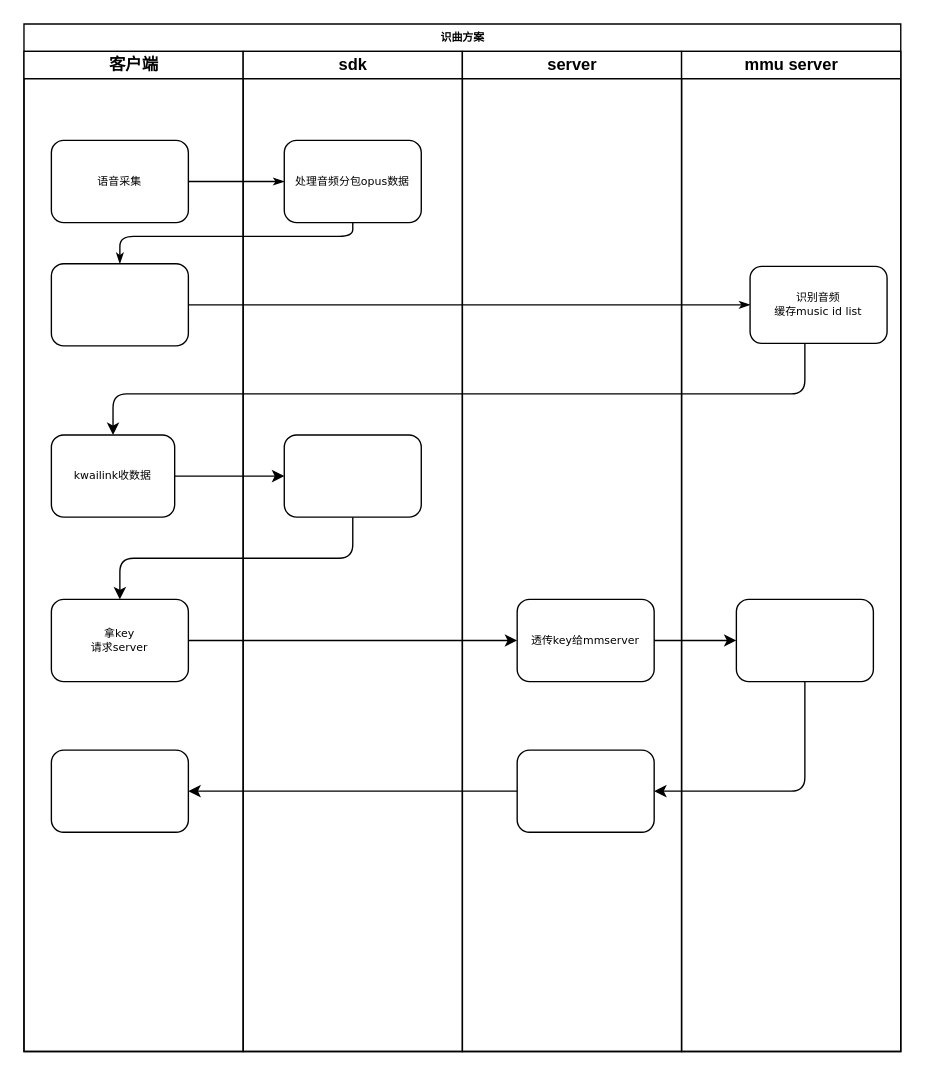
Some shapes in this 925 by 1075 pixel diagram are drawn without their labels. Here are the shapes that lost their labels. From the top down, the box of each, then its label:
(50, 262, 188, 346): kwailink 发数据
(283, 434, 421, 517): 解析数据通知状态 返回对应识别结果的key
(735, 598, 873, 682): 返回muic id list
(50, 749, 188, 832): 结果展示
(516, 749, 654, 832): 拼装详情信息
